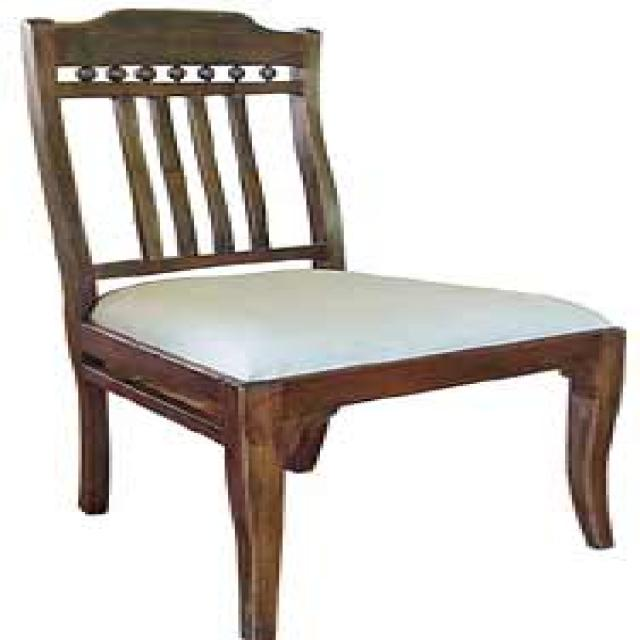chair: (17, 6, 633, 640)
